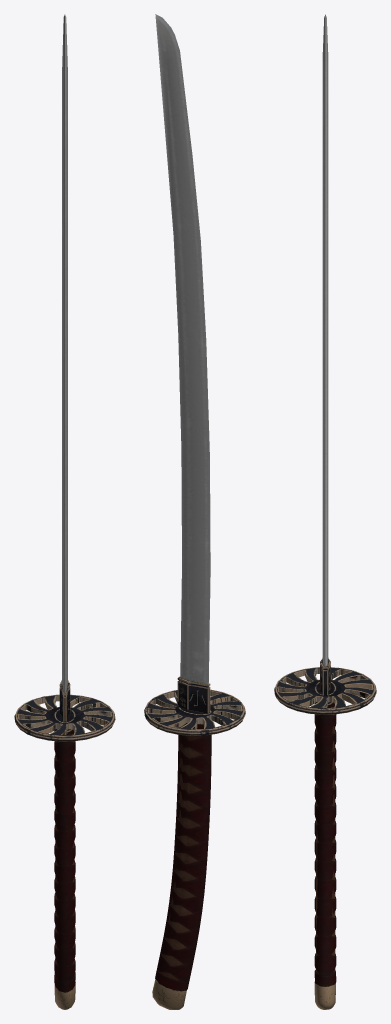
The model's file is antique_katana_01.glb.
3 views of the same model, side by side, from view 1: azimuth 90°, elevation 25°; view 2: azimuth 150°, elevation 25°; view 3: azimuth 270°, elevation 25° (orthographic).
Parts seen in each view (by area): view 1: antique_katana_01; view 2: antique_katana_01; view 3: antique_katana_01.
Boxes of the visible parts, bbox=[...] form: antique_katana_01: bbox=[14, 14, 115, 1009]; antique_katana_01: bbox=[144, 14, 245, 1009]; antique_katana_01: bbox=[274, 14, 376, 1009].
Bounding box in the file's own units: 0.0934 × 1 × 0.0934.
1 material, 1 textured.
